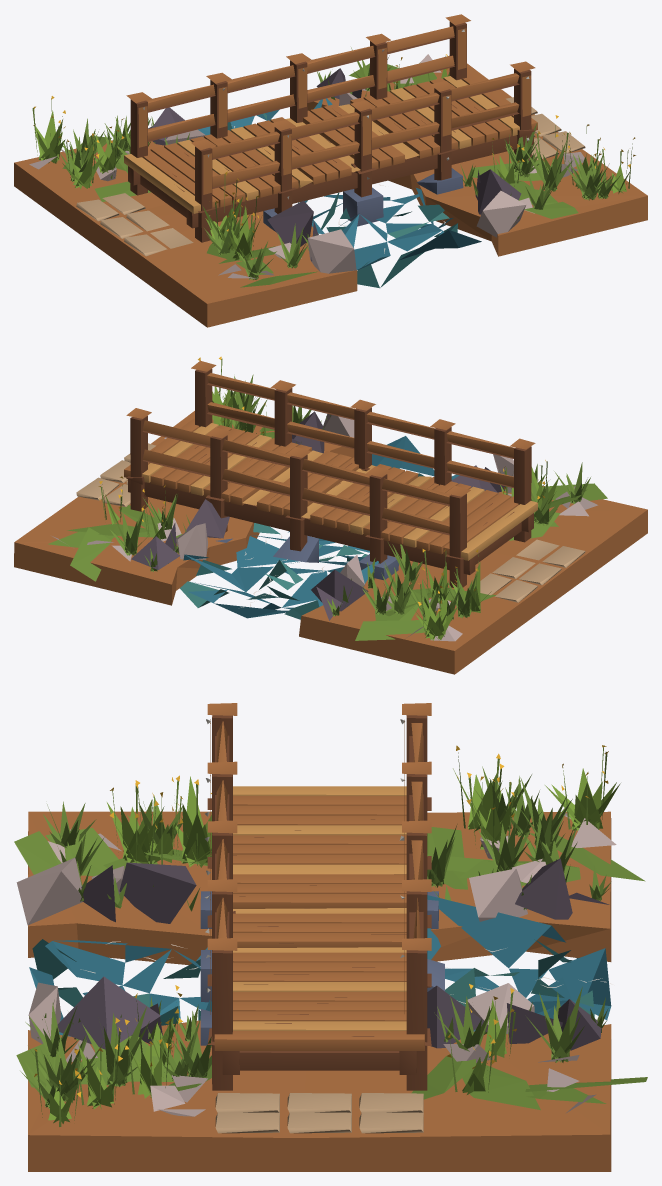
The model's file is kit.creek-bridge-wood.lod2.glb.
3 views of the same model, one above another, from view 1: azimuth 30°, elevation 25°; view 2: azimuth 150°, elevation 25°; view 3: azimuth 270°, elevation 25° (orthographic). The views are drawn at different scales.
Bounding box in the file's own units: 7.92 × 2.22 × 6.52.
